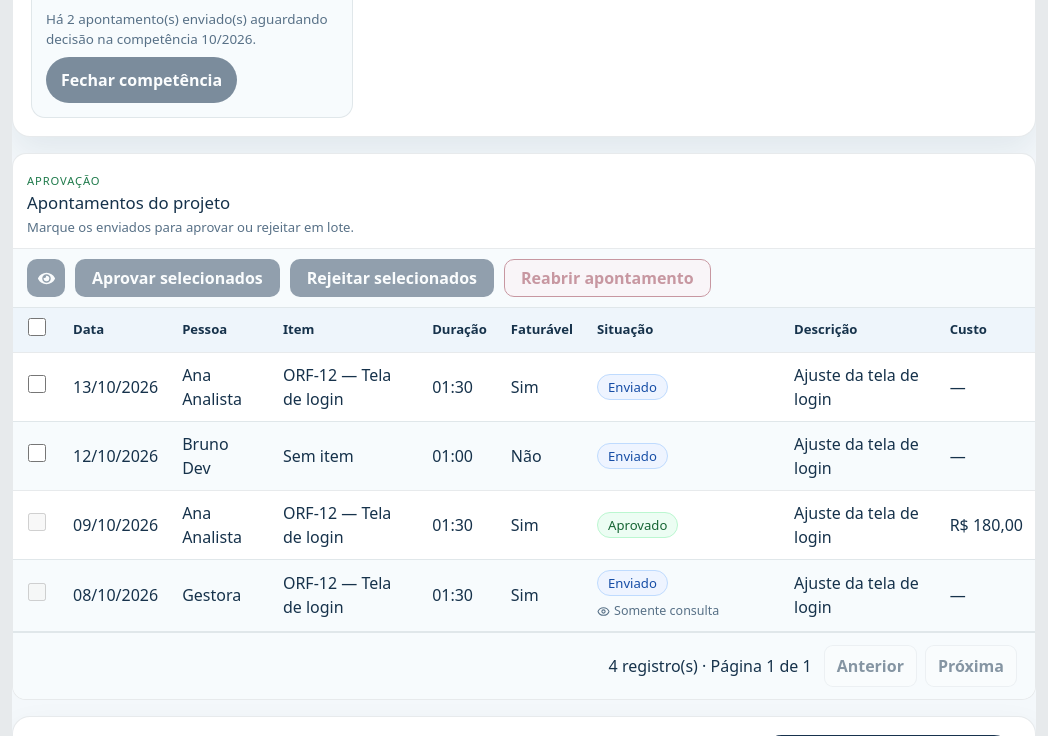
Test: Horas do projeto › aprova em lote os enviados marcados e reaproveita a chave de idempotência na nova tentativa
(page scrolled)
Check: the heading "Apontamentos do projeto" is shown, box [27,191,230,214]
Check: the button named "Aprovar selecionados. Indisponível: Marque ao menos um apontamento enviado." is disabled, box [75,259,280,297]
Click the checkbox named "Selecionar apontamento de Ana Analista em 13/10/2026".
click(37, 384)  # box [28,375,46,393]
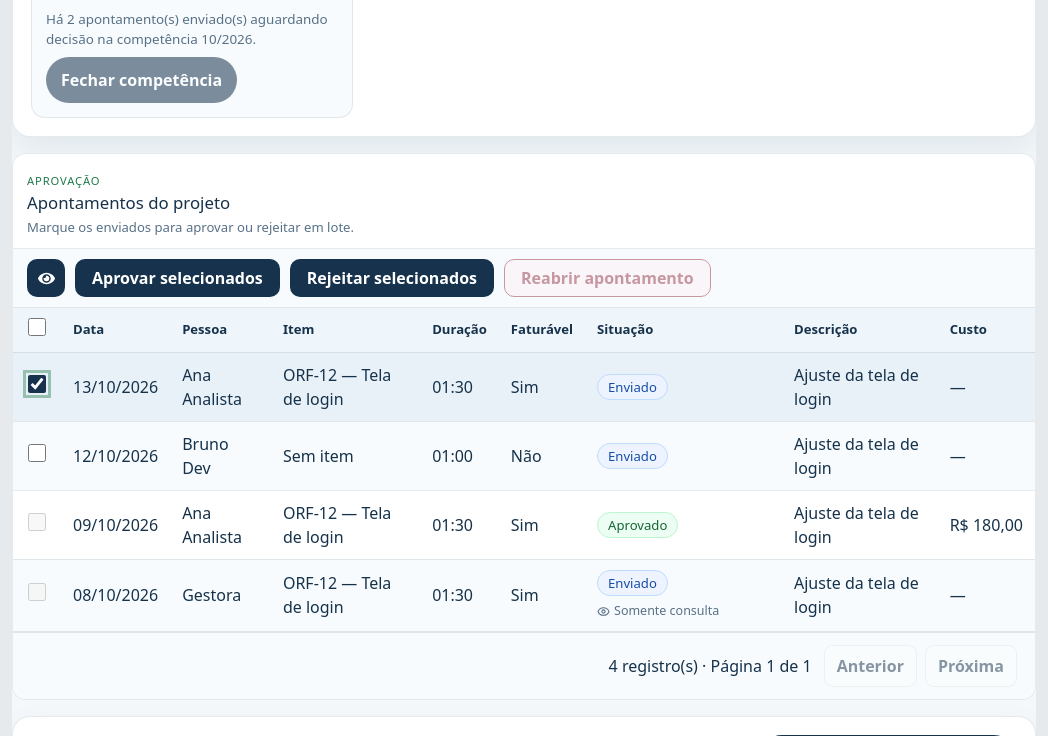
Click the checkbox named "Selecionar apontamento de Bruno Dev em 12/10/2026".
click(37, 453)  # box [28,444,46,462]
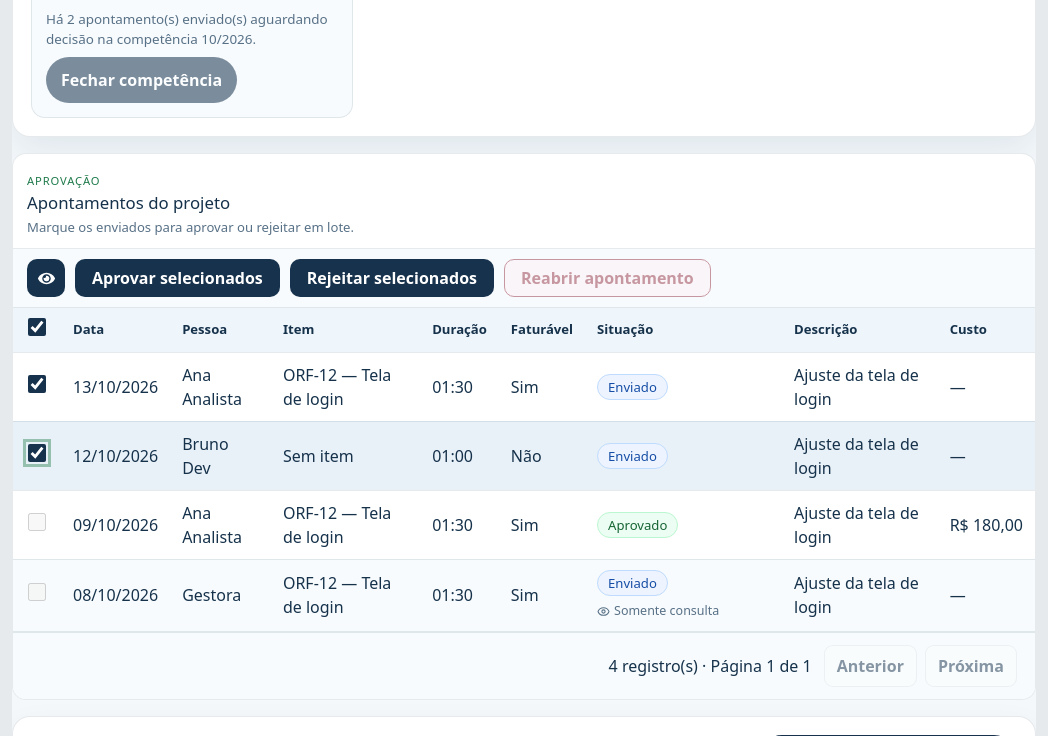
Click the button "Aprovar selecionados".
click(177, 278)  # box [75,259,280,297]
(page scrolled)
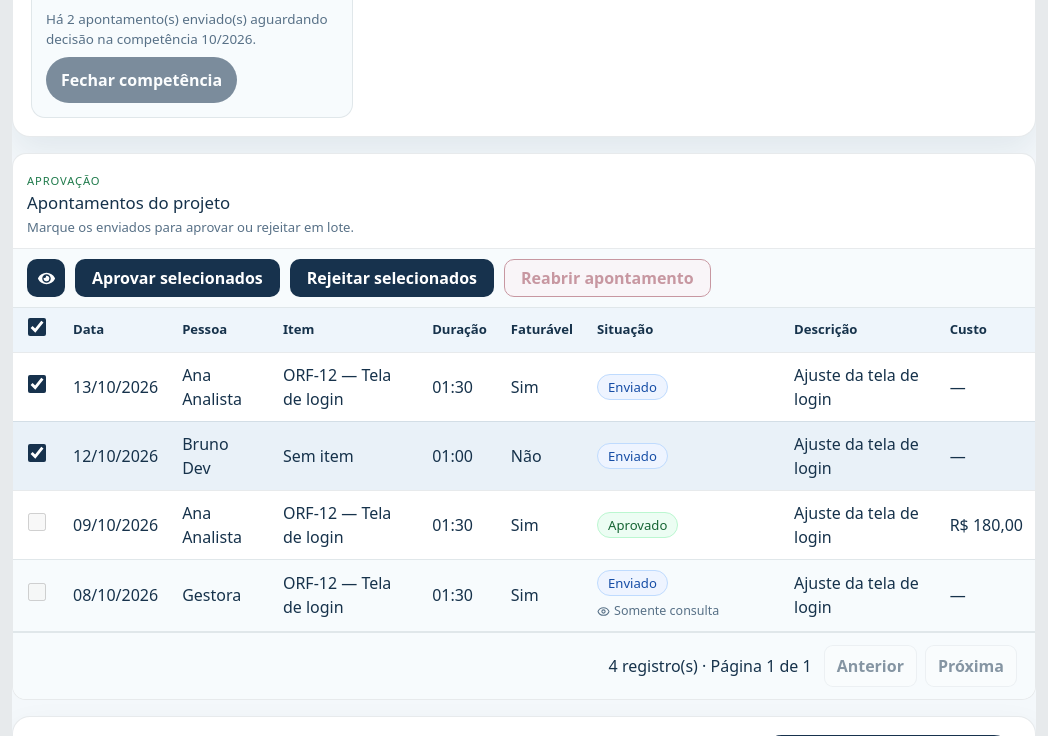
Click the button "Aprovar selecionados".
click(177, 278)  # box [75,259,280,297]
(page scrolled)
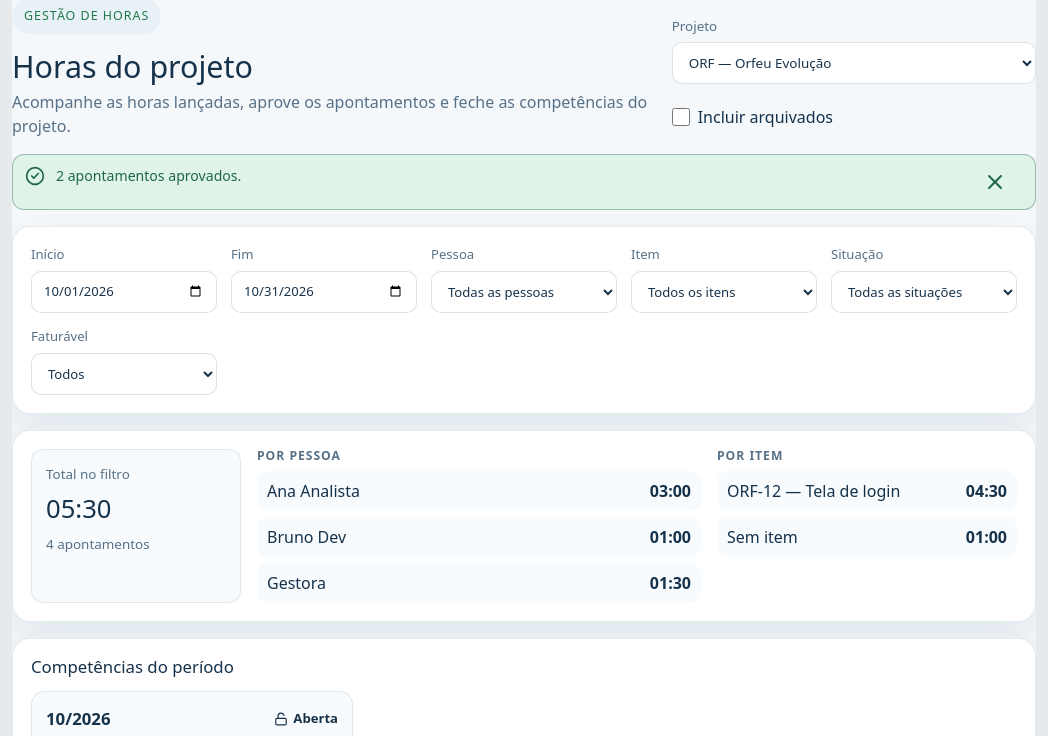
Check: the text "2 apontamentos aprovados." is shown, box [56,166,241,185]
